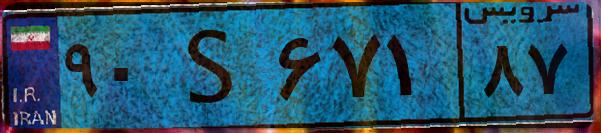0: (110, 28, 158, 98)
1: (385, 28, 445, 110)
6: (270, 28, 330, 110)
7: (330, 28, 385, 110), (525, 38, 570, 115)
8: (475, 38, 525, 113)
9: (57, 26, 110, 100)
S: (158, 12, 270, 120)
